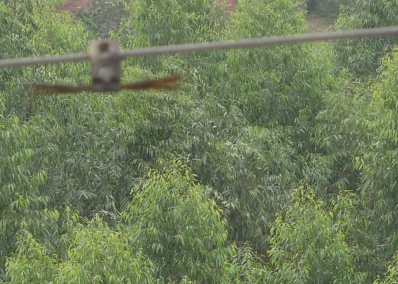damper_defect: (22, 33, 185, 96)
